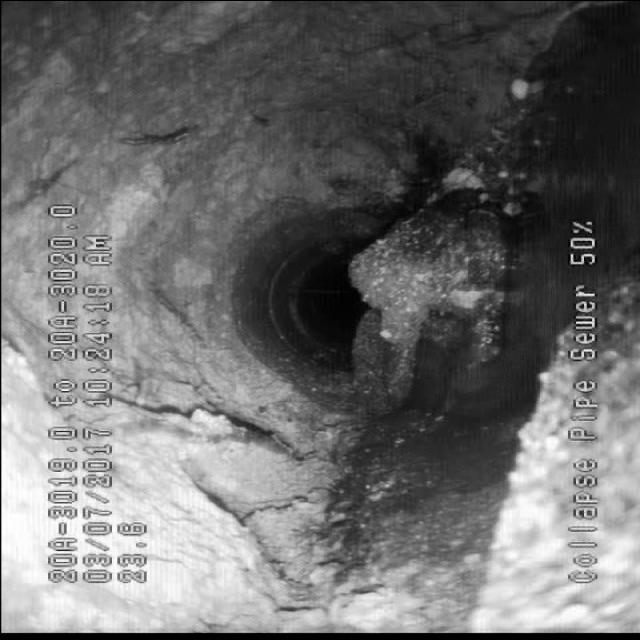Fracture: (176, 394, 390, 602)
